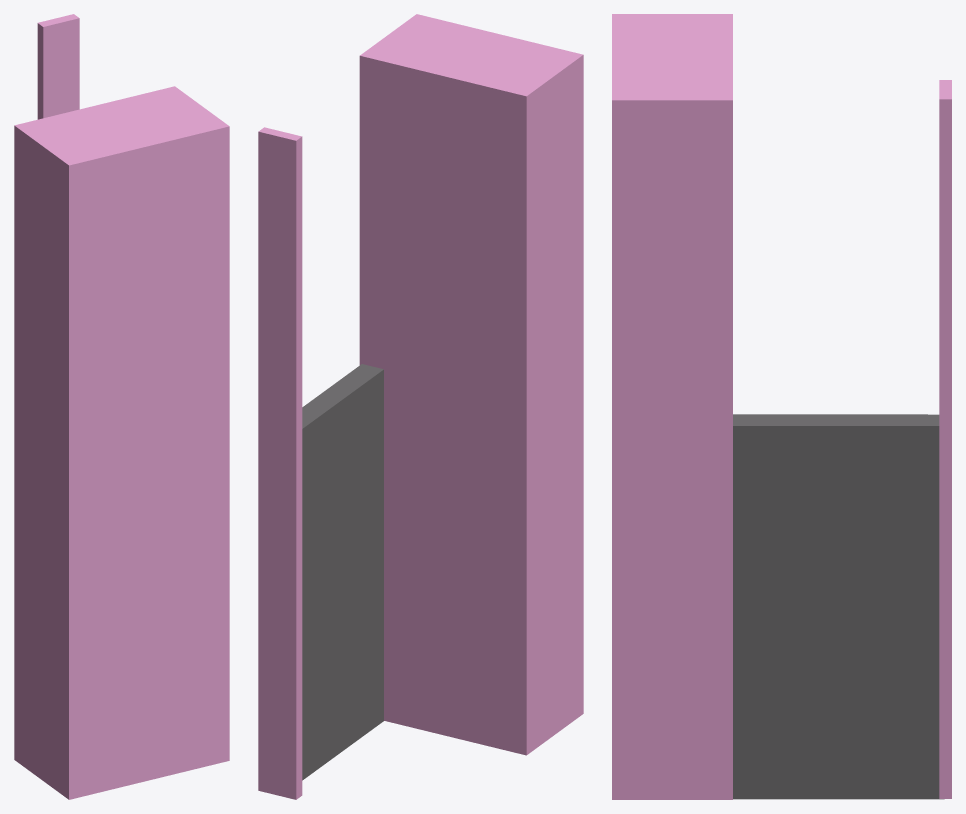
The model's file is Door.dae.
3 renders of one model, left to right at view 1: azimuth 30°, elevation 25°; view 2: azimuth 150°, elevation 25°; view 3: azimuth 270°, elevation 25°, orthographic. The views are drawn at different scales.
Parts seen in each view (by area): view 1: counter.005; view 2: counter.005; view 3: counter.005.
Boxes of the visible parts, x1,y1,x2,y2 form: counter.005: (14,14,229,799); counter.005: (258,14,583,799); counter.005: (612,14,951,799).
Size of the model in its own units: 0.8221 by 1.37 by 3.1.
